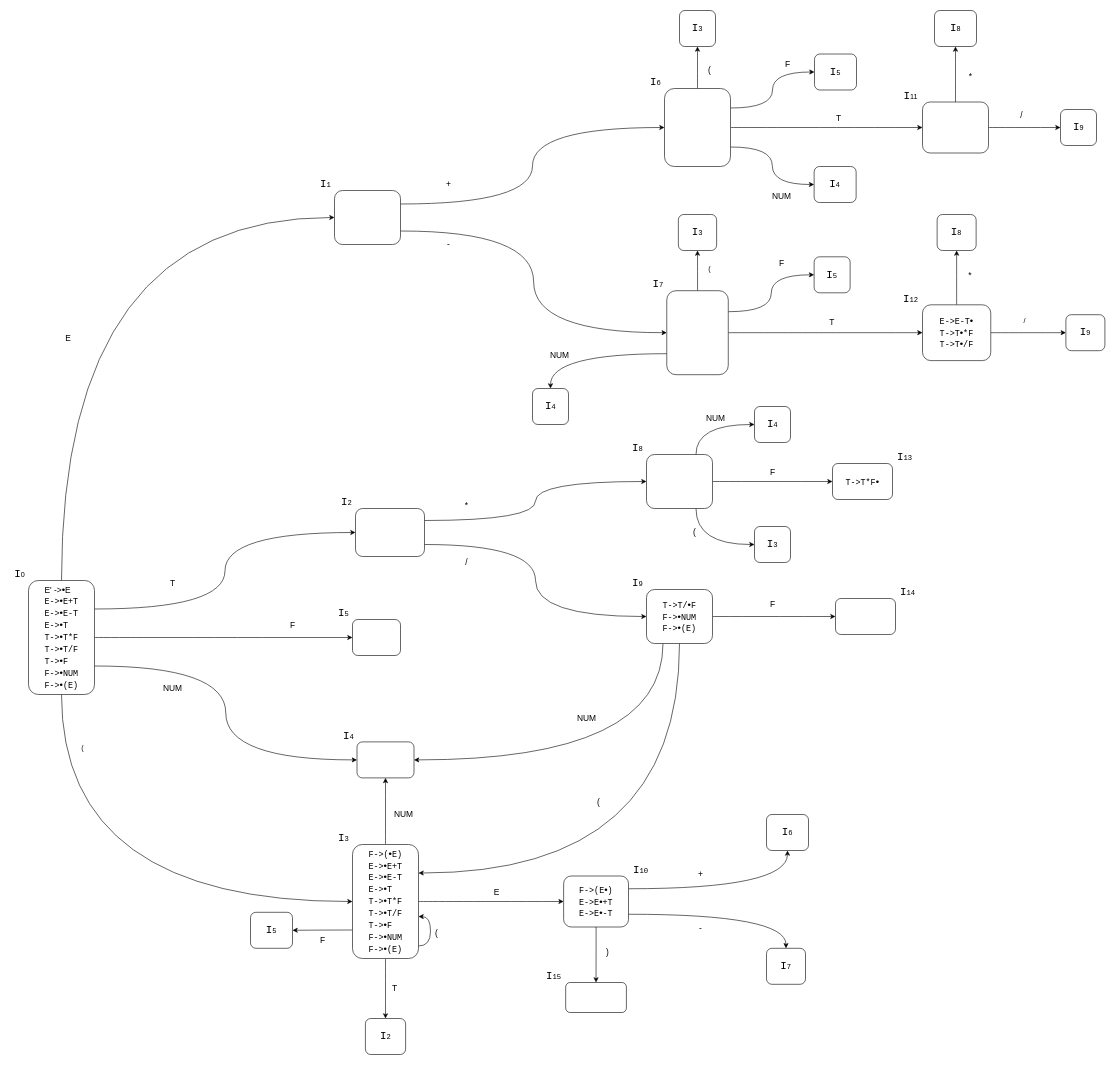
The diagram is 1115 pixels wide and 1065 high, and some of its shapes have lost their labels. The box of each missing label's shape, as (x1, y1, x2, y2) in pixels:
E' ->E • E->E • +T E->E • -T: (334, 190, 400, 244)
E->E+ • T T-> • T*F T-> • T/F T-> • F F-> • NUM F-> • (E): (664, 88, 730, 166)
E->E+T • T->T • *F T->T • /F: (922, 101, 988, 153)
E->E- • T T-> • T*F T-> • T/F T-> • F F-> • NUM F-> • (E): (666, 290, 728, 375)
E->T • T->T • *F T->T • /F: (355, 508, 424, 556)
F->(E ) •: (565, 982, 626, 1012)
F->NUM •: (356, 741, 414, 778)
T->F •: (352, 619, 400, 656)
T->T* • F F-> • NUM F-> • (E): (646, 454, 712, 508)
T->T/F •: (835, 598, 896, 634)
